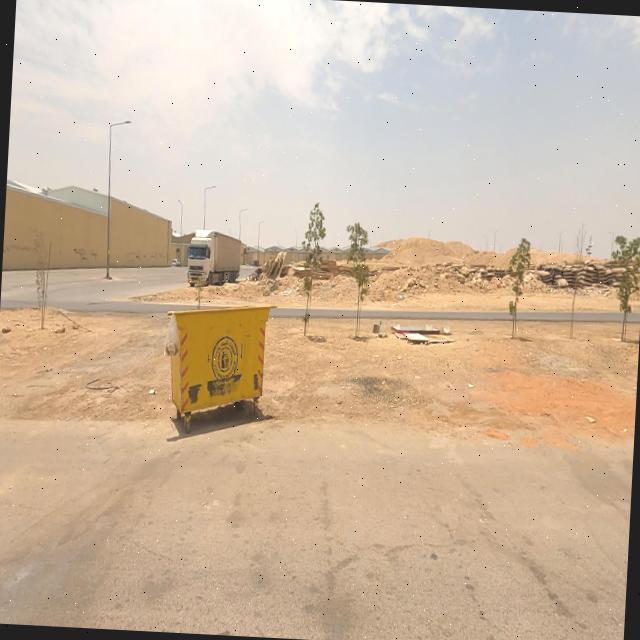Graffiti: (5, 244, 38, 258), (74, 247, 98, 265)
